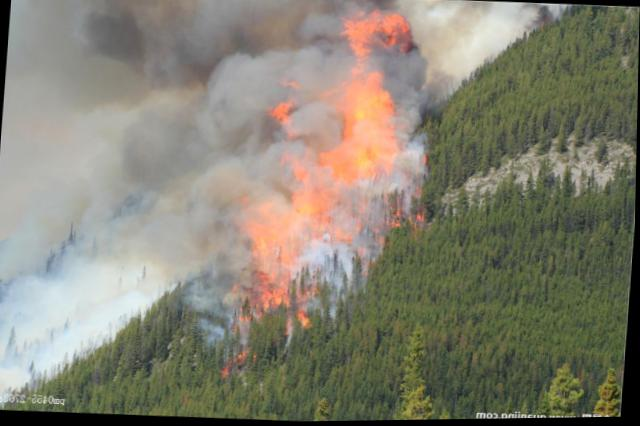fire: (336, 75, 399, 187), (343, 13, 410, 54), (251, 213, 300, 268), (298, 182, 333, 230), (266, 267, 294, 309), (276, 98, 294, 132)
